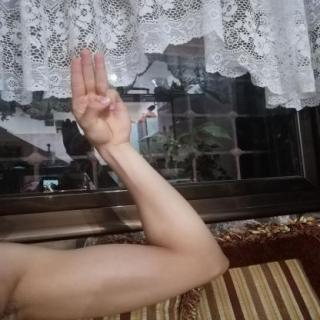THA: (60, 42, 141, 154)
